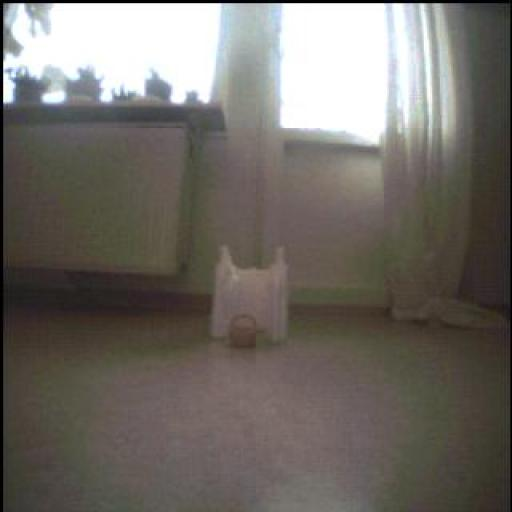Basket: (230, 315, 259, 348)
